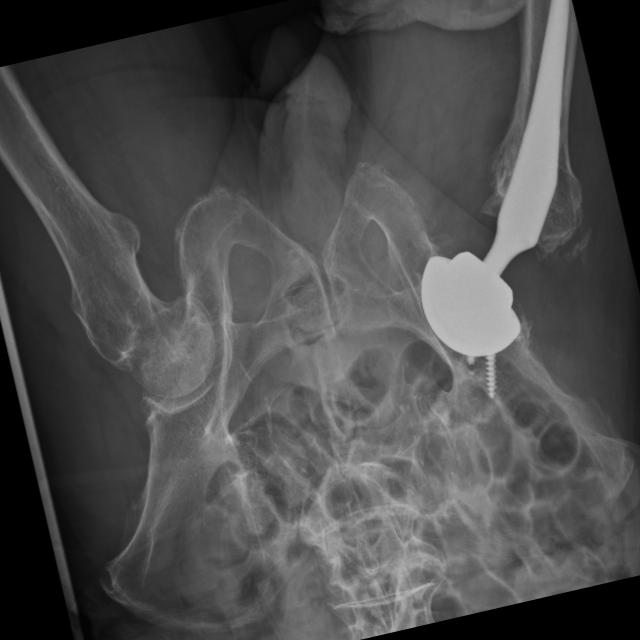normal-left: (7, 137, 213, 397)
